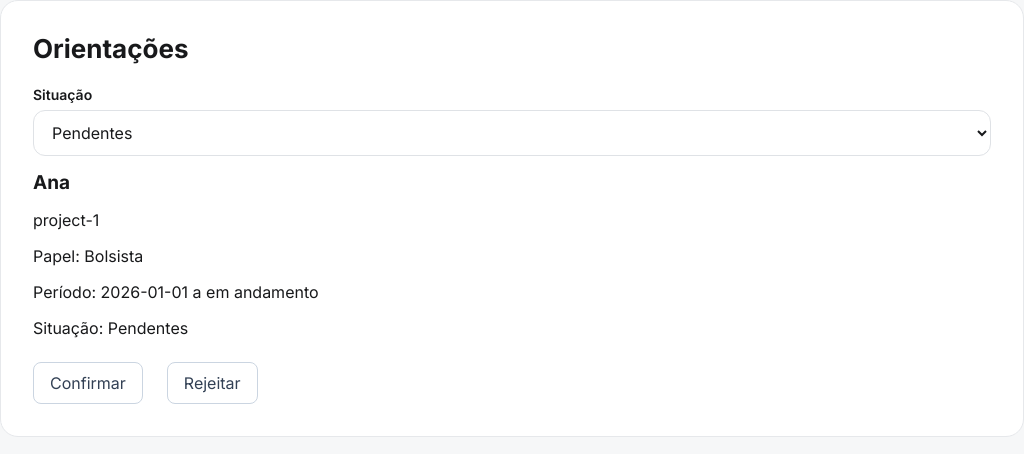
Test case: revisa com Confirmar e atualiza pendências
Click the button "Confirmar" at (88, 383), box [33,362,143,404]
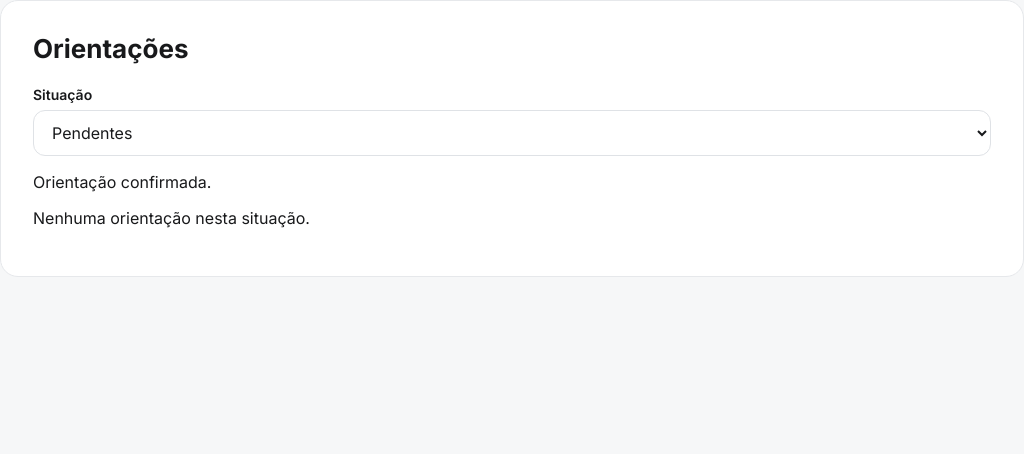
Now the text "Nenhuma orientação nesta situação." is shown, box [33,208,310,228]
Now the text "Orientação confirmada." is shown, box [33,172,211,192]
